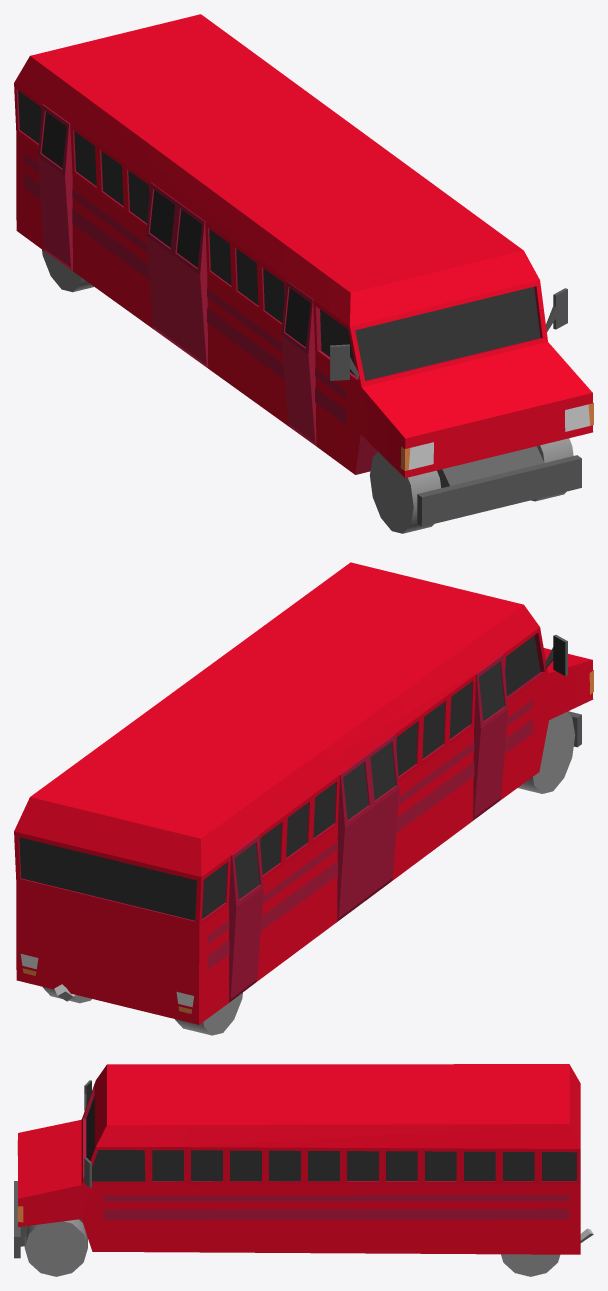
The model's file is bus_04.fbx.
3 views of the same model, one above another, from view 1: azimuth 30°, elevation 25°; view 2: azimuth 150°, elevation 25°; view 3: azimuth 270°, elevation 25° (orthographic). The views are drawn at different scales.
Visible parts, largest first — view 1: bus_04; view 2: bus_04; view 3: bus_04.
Part boxes in pixels (<box>): bus_04: <box>14,14,593,533</box>; bus_04: <box>14,562,593,1035</box>; bus_04: <box>14,1064,593,1276</box>.
Size of the model in its own units: 2.77 by 2.39 by 8.14.
